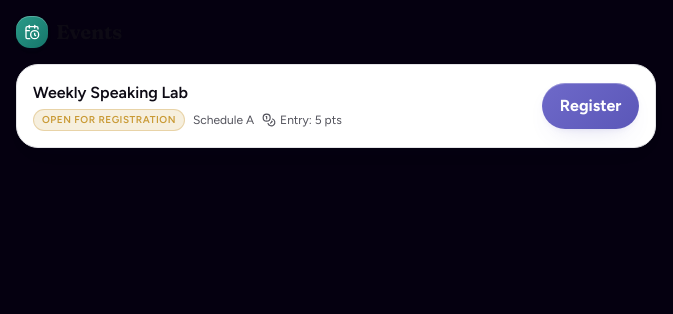
Test case: EventsPage — browse available events + register › registers for an event and shows the ticket outcome
Click the button with test id "events-page-register-evt_1".
click(591, 106)  # box top-left (542, 83), bottom-right (639, 129)
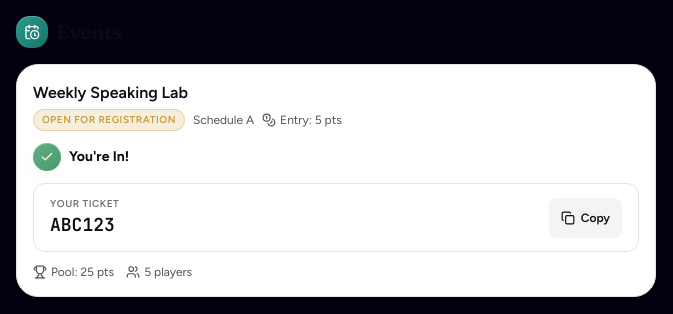
Now the text with test id "events-page-ticket-evt_1" reads "ABC123", box top-left (50, 213), bottom-right (115, 236)
Now the text "Pool: 25 pts" is shown, box top-left (33, 264), bottom-right (114, 280)
Now the text "5 players" is shown, box top-left (126, 264), bottom-right (192, 280)
